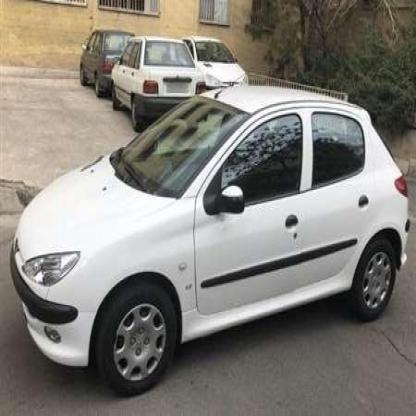Car: (12, 86, 405, 391), (118, 29, 204, 122), (80, 22, 130, 88), (193, 40, 255, 92)
